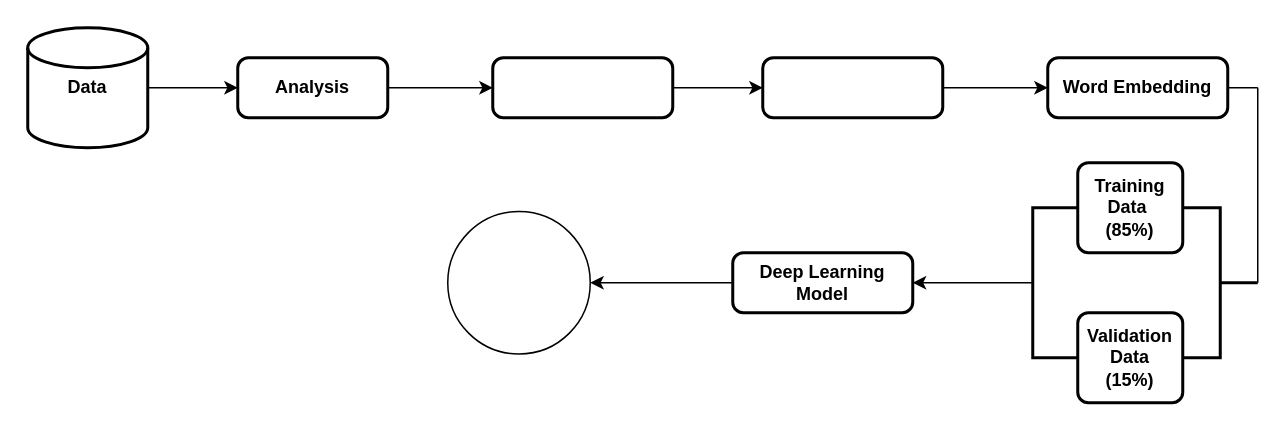
This 1286x429 diagram has some shape labels left out. Each missing label, with the centre of its shape:
Getting the Desired Model: (x=518, y=282)
Preprocessing: (x=582, y=87)
Vocabulary Array with Hashing: (x=852, y=87)
